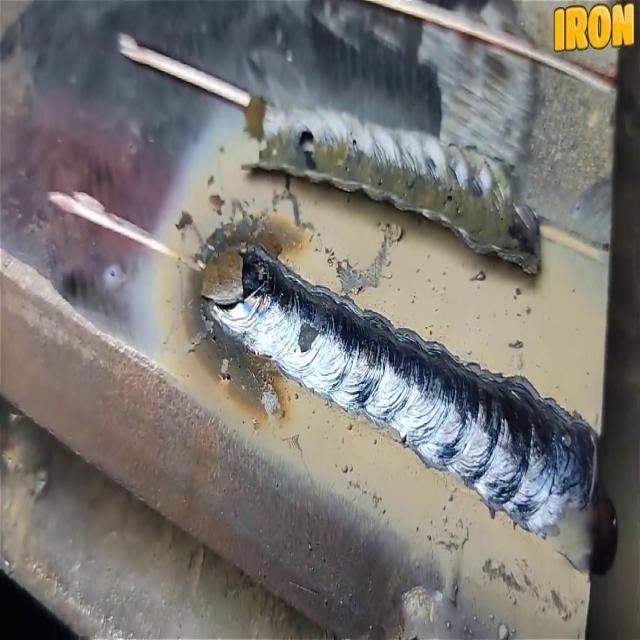Bad Welding: (201, 249, 244, 304)
